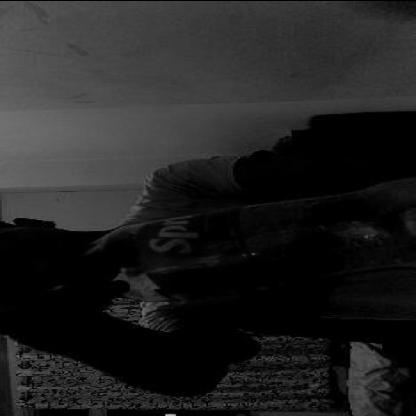plastic_bottles: (70, 184, 410, 302)
